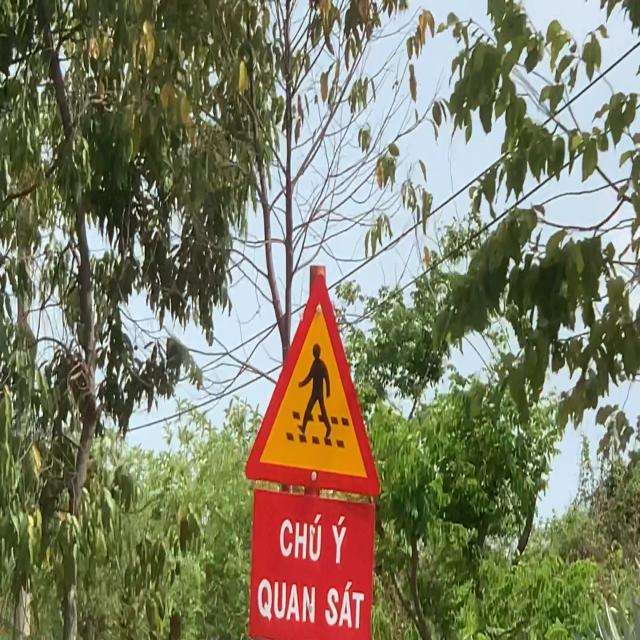Nguoi di bo cat ngang: (238, 256, 386, 498)
